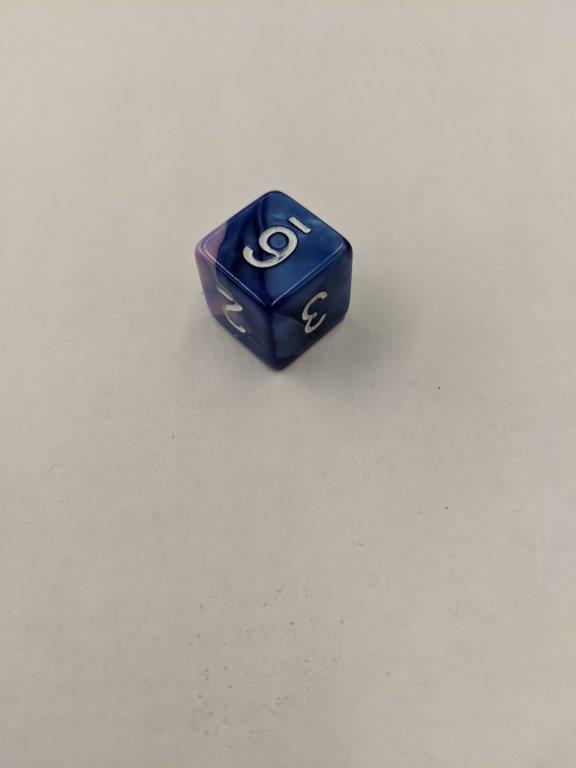d6-6: (193, 189, 352, 372)
